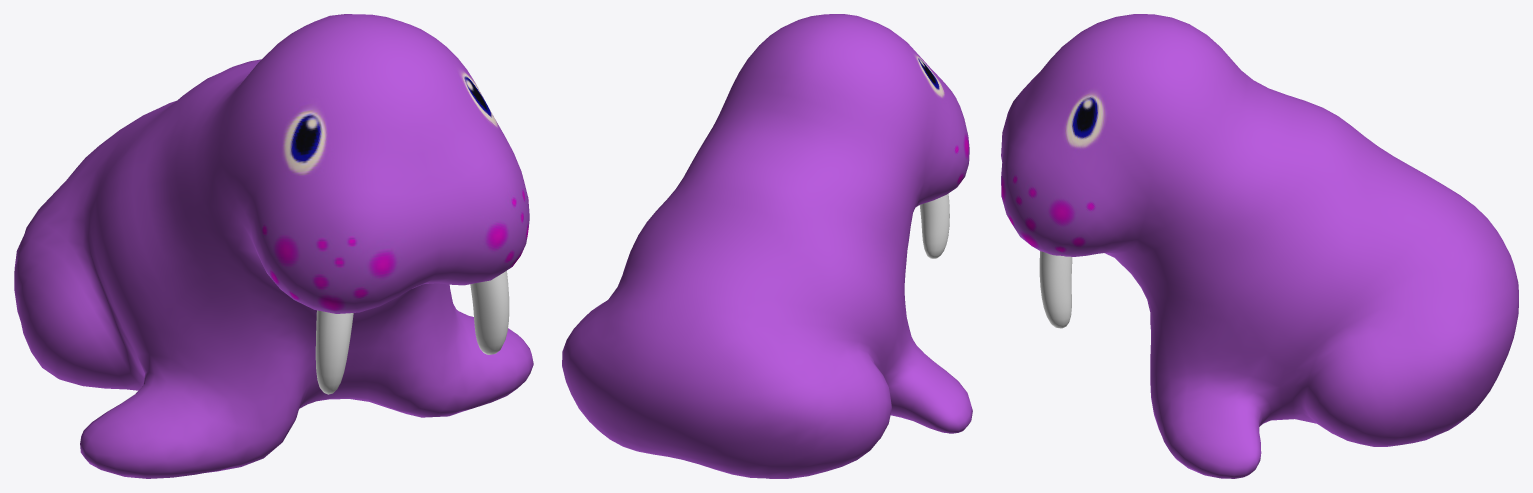
Rendered from igracka4.fbx.
The picture shows the model from 3 angles, left to right: view 1: azimuth 30°, elevation 25°; view 2: azimuth 150°, elevation 25°; view 3: azimuth 270°, elevation 25°; orthographic projection. The views are drawn at different scales.
Parts seen in each view (by area): view 1: Box008; view 2: Box008; view 3: Box008.
Boxes of the visible parts, <box> form: Box008: <box>14,14,533,478</box>; Box008: <box>562,14,972,478</box>; Box008: <box>1001,14,1518,478</box>.
Size of the model in its own units: 862 by 809 by 1023.
2 materials, 1 textured.
